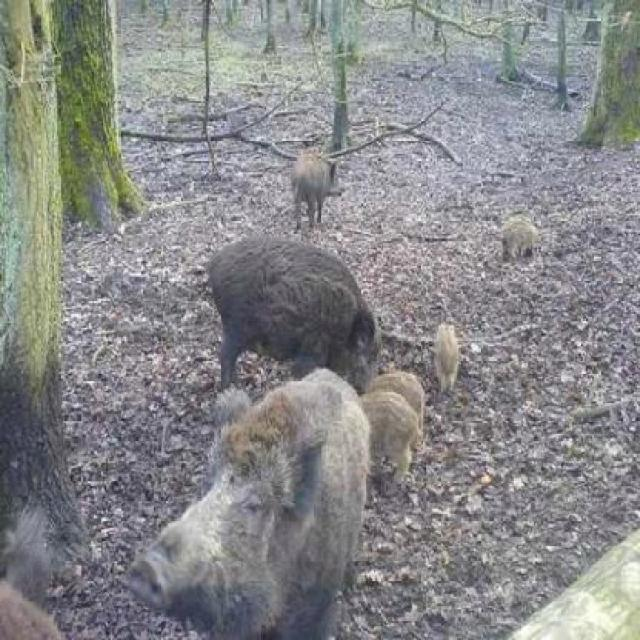Boar: (123, 341, 404, 640), (157, 198, 449, 388)
